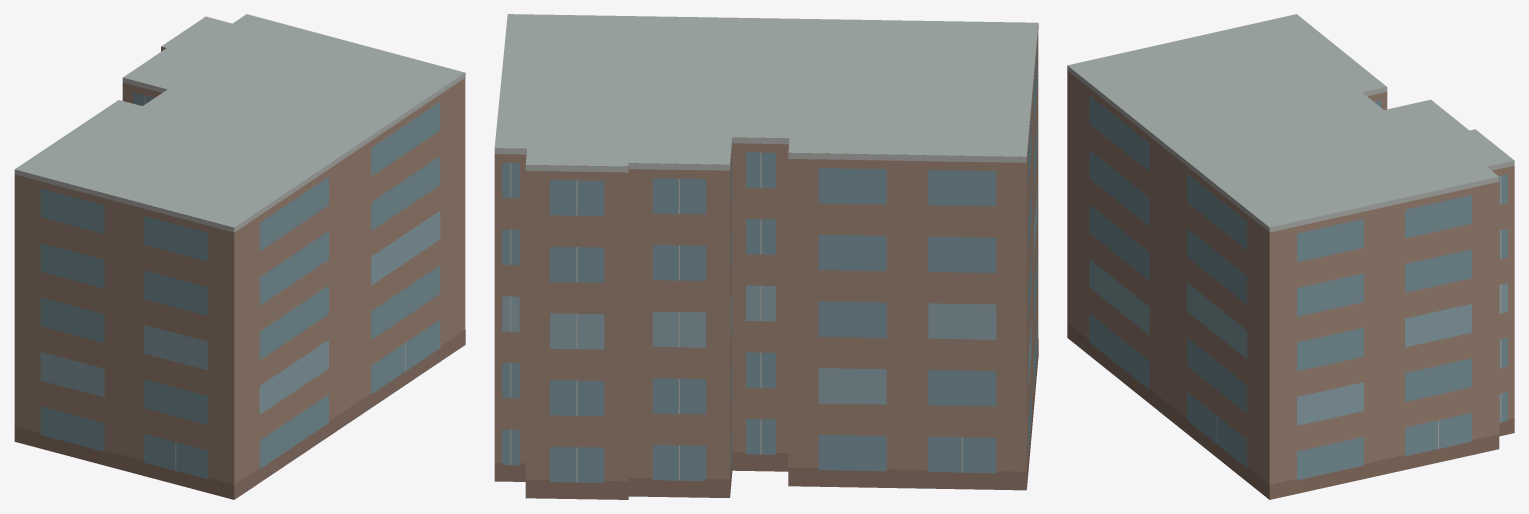
File: survey-upis-32994547.glb
3 renders of one model, left to right at view 1: azimuth 30°, elevation 25°; view 2: azimuth 150°, elevation 25°; view 3: azimuth 270°, elevation 25°, orthographic. The views are drawn at different scales.
Parts seen in each view (by area): view 1: survey-upis-32994547.tmp; view 2: survey-upis-32994547.tmp; view 3: survey-upis-32994547.tmp.
Boxes of the visible parts, <box> form: survey-upis-32994547.tmp: <box>14,14,465,499</box>; survey-upis-32994547.tmp: <box>494,14,1038,499</box>; survey-upis-32994547.tmp: <box>1067,14,1514,499</box>.
Bounding box in the file's own units: 22.54 × 13.4 × 19.96.
